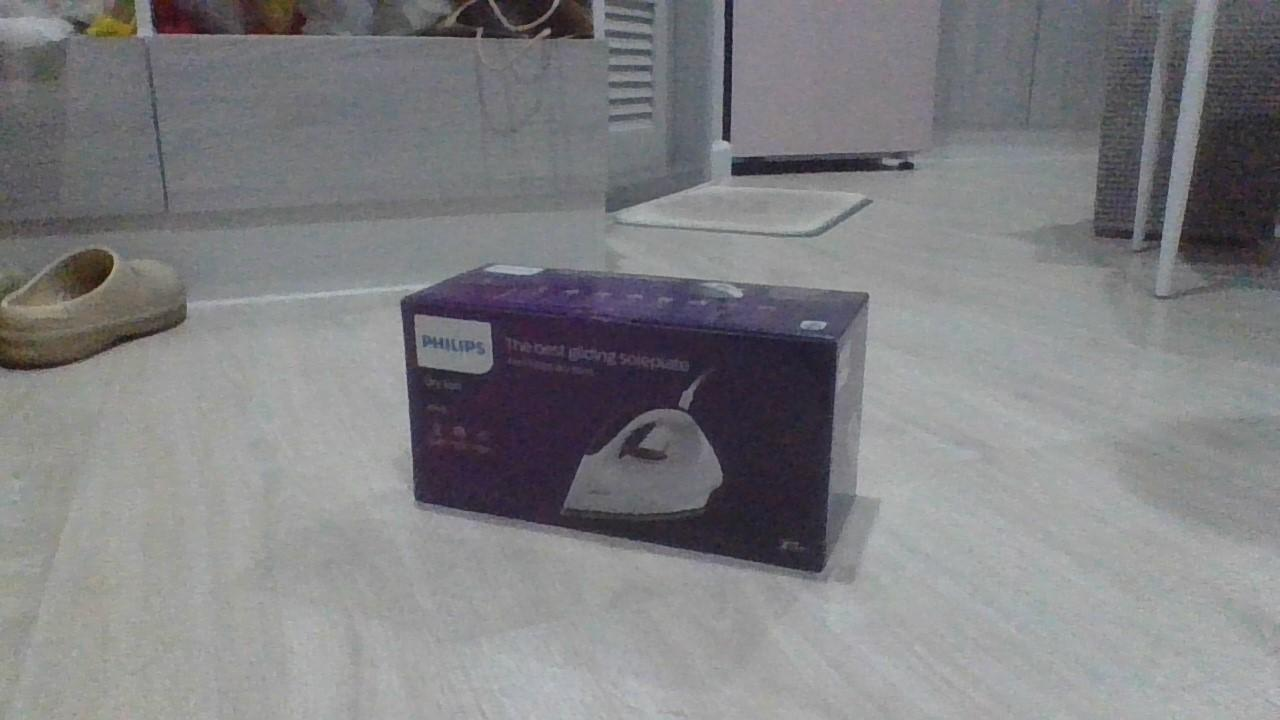IRON: (395, 257, 874, 581)
